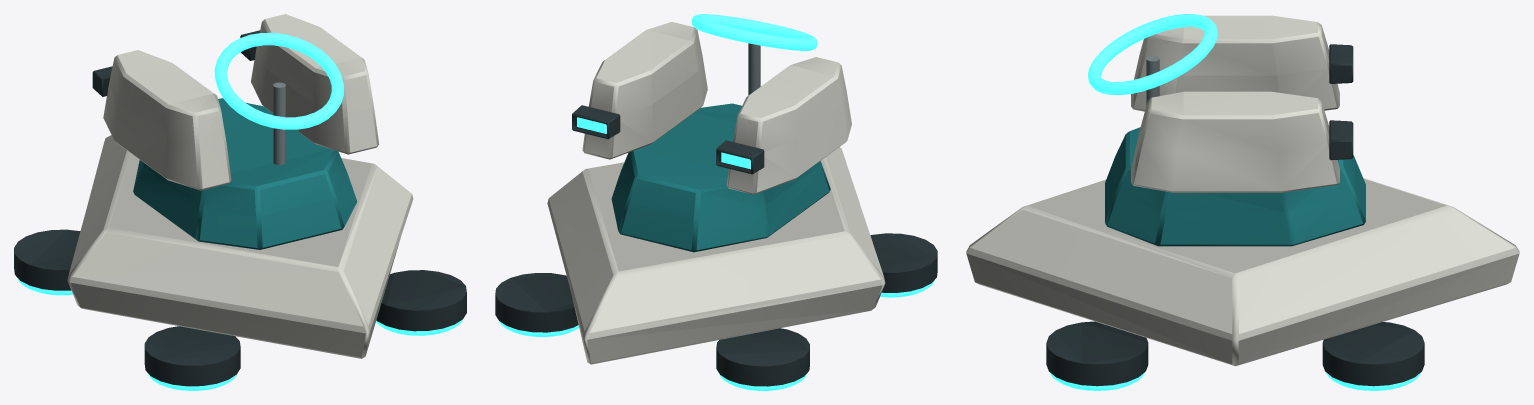
Rendered from SkywardInterceptor.glb.
3 renders of one model, left to right at view 1: azimuth 30°, elevation 25°; view 2: azimuth 150°, elevation 25°; view 3: azimuth 270°, elevation 25°, orthographic. The views are drawn at different scales.
Parts seen in each view (by area): view 1: export_SkywardInterceptor_DiamondHull, export_SkywardInterceptor_IonPod; view 2: export_SkywardInterceptor_DiamondHull, export_SkywardInterceptor_IonPod; view 3: export_SkywardInterceptor_DiamondHull, export_SkywardInterceptor_IonPod.
Part boxes in pixels (left/top/right/bottom): export_SkywardInterceptor_DiamondHull: left=14, top=98, right=466, bottom=390; export_SkywardInterceptor_IonPod: left=92, top=14, right=378, bottom=190; export_SkywardInterceptor_DiamondHull: left=495, top=103, right=937, bottom=390; export_SkywardInterceptor_IonPod: left=572, top=14, right=851, bottom=194; export_SkywardInterceptor_DiamondHull: left=966, top=127, right=1519, bottom=390; export_SkywardInterceptor_IonPod: left=1088, top=14, right=1353, bottom=192.
Bounding box in the file's own units: 2.79 × 2.11 × 3.69.
